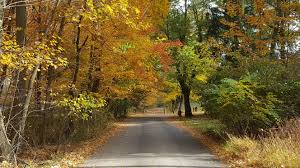strada: (11, 127, 299, 167)
